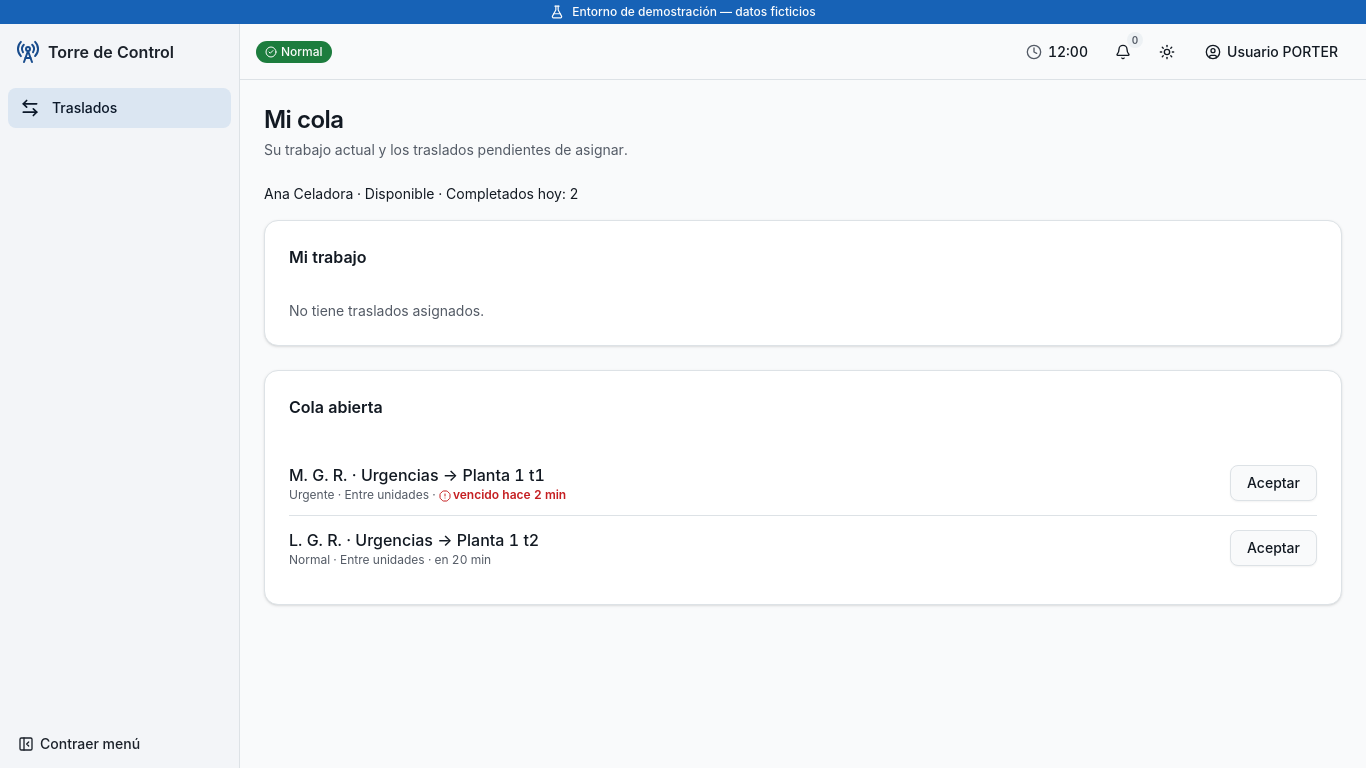
Test: Traslados: Mi cola (porter) › accepts an open transfer while available; a busy porter cannot
The width and height of the screenshot is (1366, 768).
Expected: the heading "Mi cola" is shown, [264,105,343,134]
Click the button "Aceptar" in the row of "M. G. R.".
click(1274, 483)  # box [1230,465,1317,501]
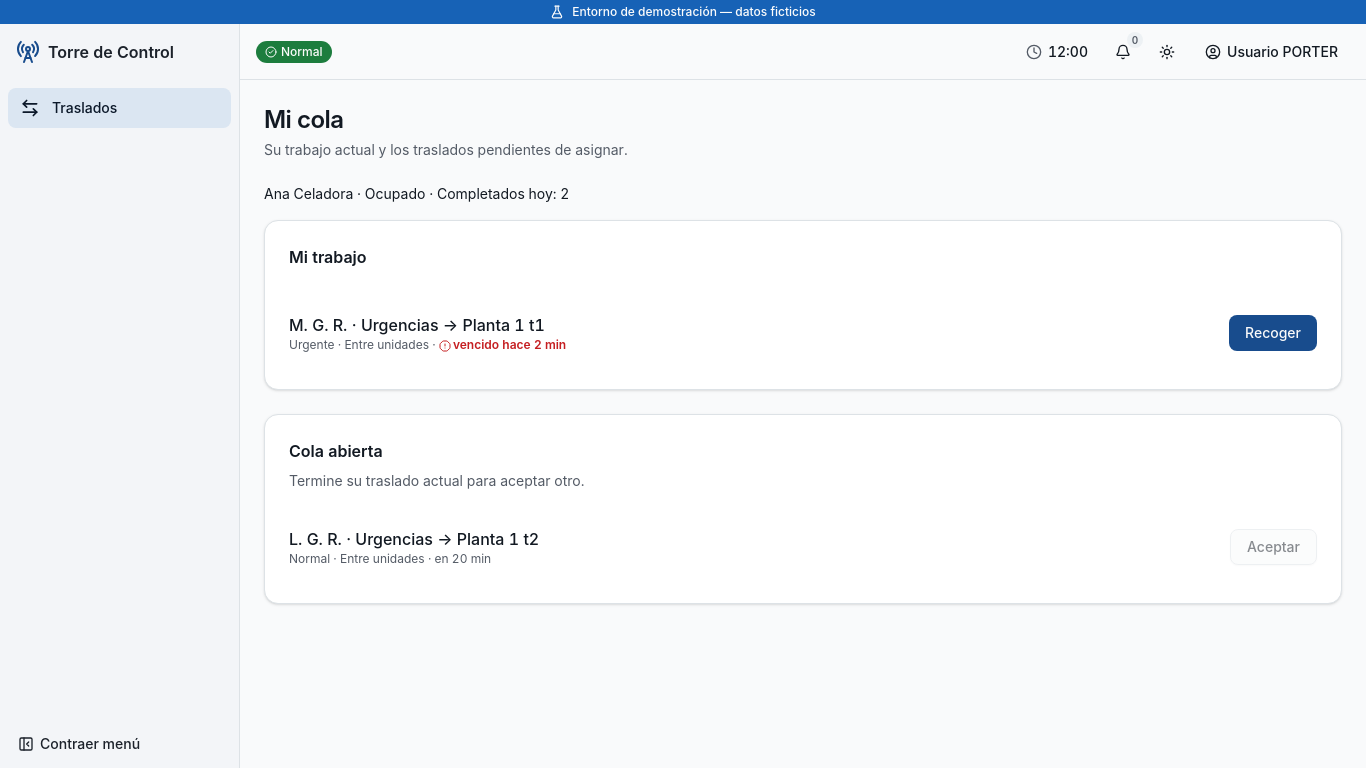
Now the button "Aceptar" is disabled, box [1230,529,1317,565]
